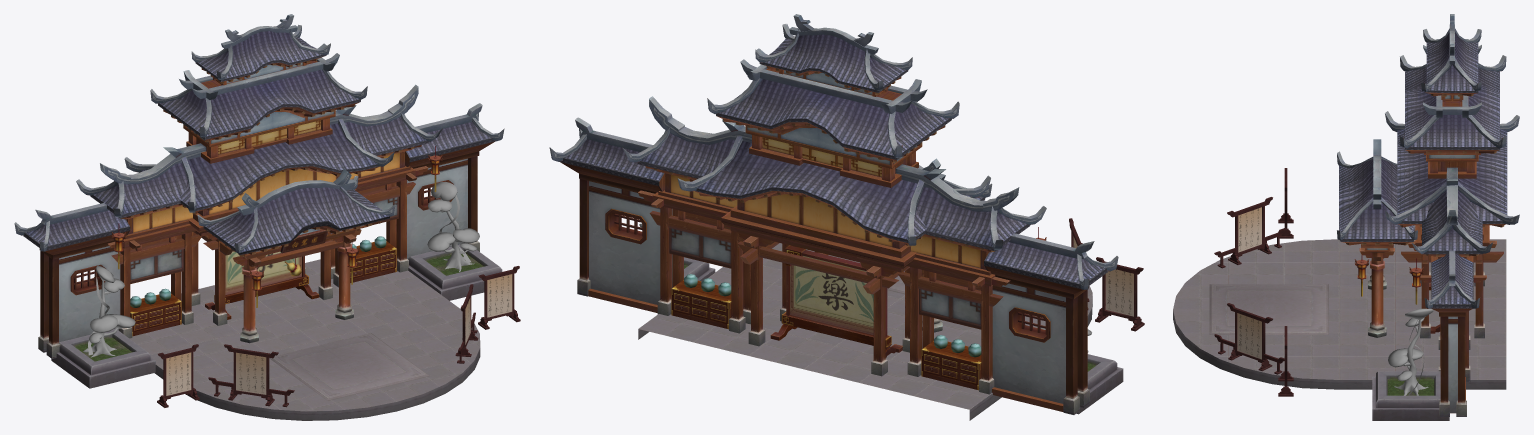
The model's file is ZYbui_CLF_qipaifang01.FBX.
The picture shows the model from 3 angles, left to right: view 1: azimuth 30°, elevation 25°; view 2: azimuth 150°, elevation 25°; view 3: azimuth 270°, elevation 25°; orthographic projection. The views are drawn at different scales.
Parts seen in each view (by area): view 1: ZYbui_CLF_qipaifang01, ZYtree_CLF_lingzhi01 (×2), ZYthi_CLF_qipingfeng01 (×2), ZYthi_CLF_qipingfeng003, ZYthi_CLF_qipingfeng002; view 2: ZYbui_CLF_qipaifang01, ZYthi_CLF_qipingfeng01; view 3: ZYbui_CLF_qipaifang01, ZYthi_CLF_qipingfeng01 (×2), ZYthi_CLF_qipingfeng002, ZYtree_CLF_lingzhi01, ZYthi_CLF_qipingfeng003.
Boxes of the visible parts, x1=… form: ZYbui_CLF_qipaifang01: x1=14, y1=14, x2=504, y2=420; ZYtree_CLF_lingzhi01 (×2): x1=83, y1=182, x2=479, y2=357; ZYthi_CLF_qipingfeng01 (×2): x1=157, y1=344, x2=294, y2=407; ZYthi_CLF_qipingfeng003: x1=478, y1=266, x2=520, y2=329; ZYthi_CLF_qipingfeng002: x1=455, y1=284, x2=478, y2=363; ZYbui_CLF_qipaifang01: x1=549, y1=14, x2=1123, y2=420; ZYthi_CLF_qipingfeng01: x1=1095, y1=257, x2=1144, y2=331; ZYbui_CLF_qipaifang01: x1=1173, y1=14, x2=1519, y2=420; ZYthi_CLF_qipingfeng01 (×2): x1=1214, y1=168, x2=1293, y2=268; ZYthi_CLF_qipingfeng002: x1=1214, y1=303, x2=1284, y2=374; ZYtree_CLF_lingzhi01: x1=1388, y1=308, x2=1433, y2=395; ZYthi_CLF_qipingfeng003: x1=1278, y1=326, x2=1293, y2=396.
Size of the model in its own units: 2210 by 1303 by 1417.
